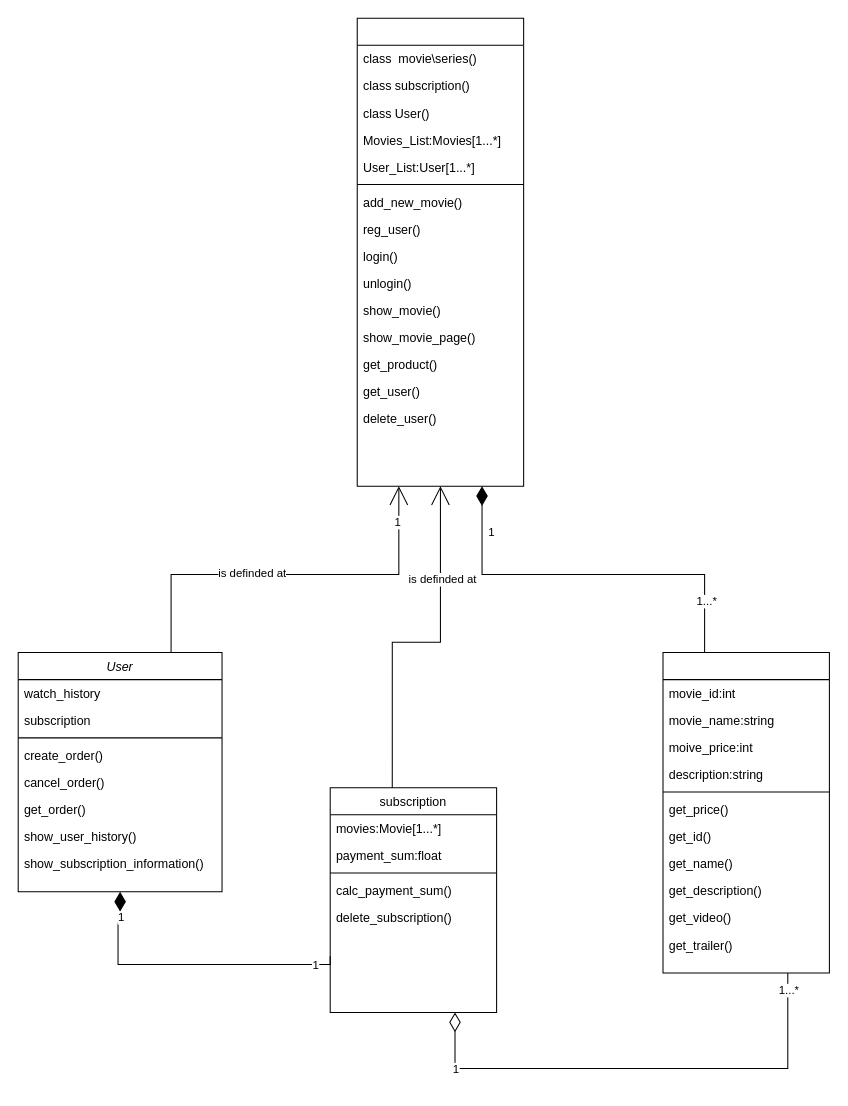
This 848x1106 diagram has some shape labels left out. The shapes that lost their labels are listed below. From the top down, each one's box as (x1, y1, x2, y2) in pixels, then its label:
(356, 17, 524, 486): App
(662, 652, 829, 973): movie\series
